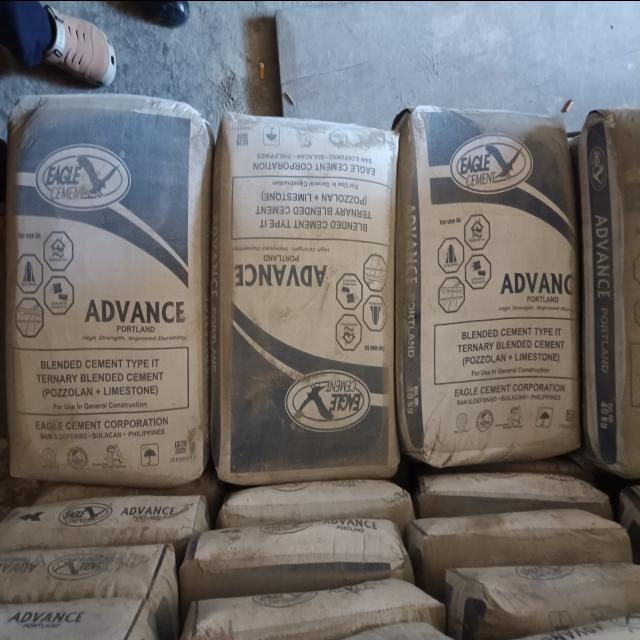Cement: (13, 108, 195, 478), (226, 128, 388, 460), (408, 125, 572, 447), (580, 123, 640, 462), (197, 515, 410, 589), (421, 506, 634, 580), (468, 558, 640, 640), (8, 496, 212, 555), (5, 540, 171, 606), (220, 473, 414, 529), (193, 598, 445, 640), (1, 585, 158, 640), (418, 475, 608, 518)
